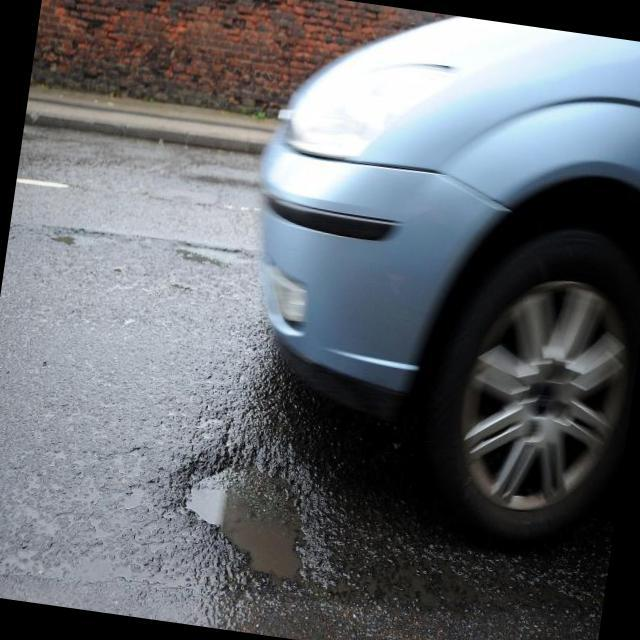Pothole: (183, 451, 308, 587)
